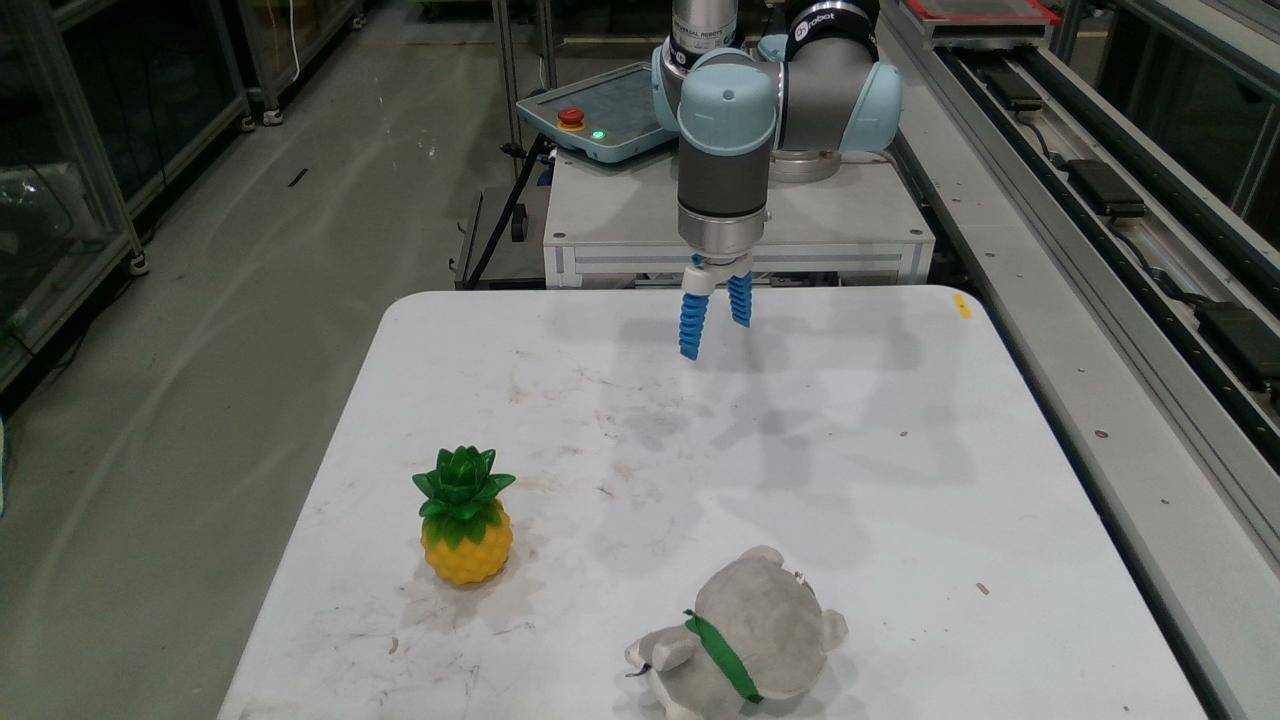UR5: (658, 2, 900, 294)
gripper_left: (680, 294, 708, 359)
gripper_right: (730, 272, 750, 326)
target: (628, 547, 846, 719), (414, 447, 510, 584)
